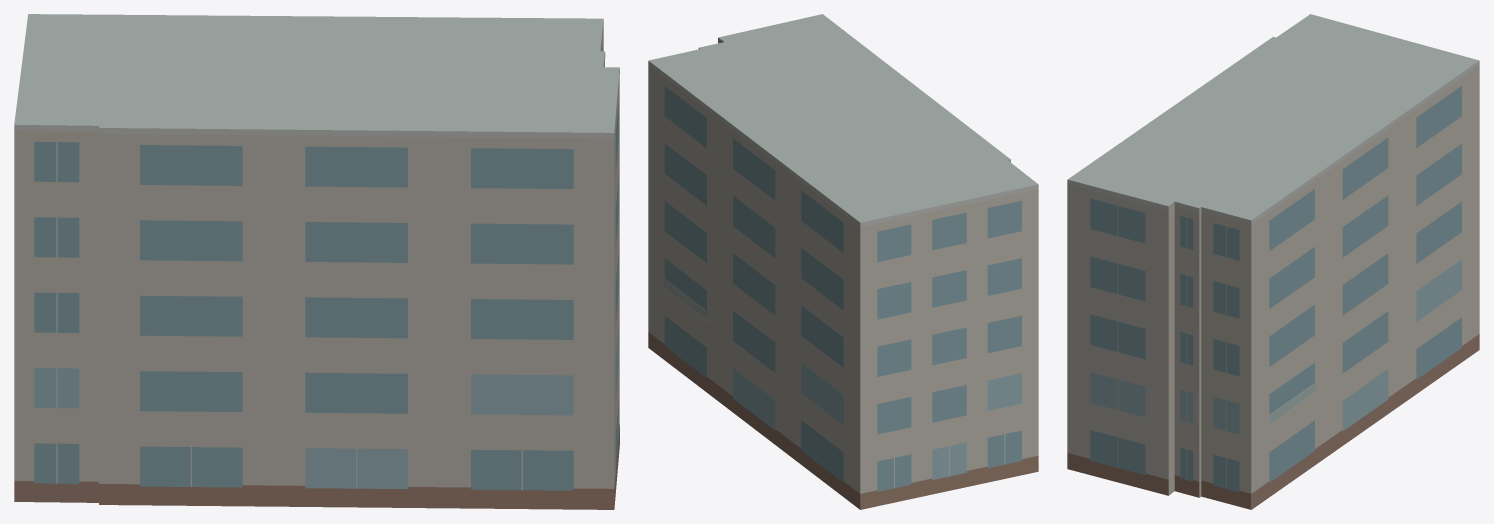
The model's file is survey-upis-32656000.glb.
The picture shows the model from 3 angles, left to right: view 1: azimuth 30°, elevation 25°; view 2: azimuth 150°, elevation 25°; view 3: azimuth 270°, elevation 25°; orthographic projection. The views are drawn at different scales.
Visible parts, largest first — view 1: survey-upis-32656000.tmp; view 2: survey-upis-32656000.tmp; view 3: survey-upis-32656000.tmp.
Part boxes in pixels (bbox=[...]): survey-upis-32656000.tmp: bbox=[14, 14, 619, 509]; survey-upis-32656000.tmp: bbox=[648, 14, 1038, 509]; survey-upis-32656000.tmp: bbox=[1067, 14, 1479, 509].
Bounding box in the file's own units: 23.94 × 15.65 × 20.2.
